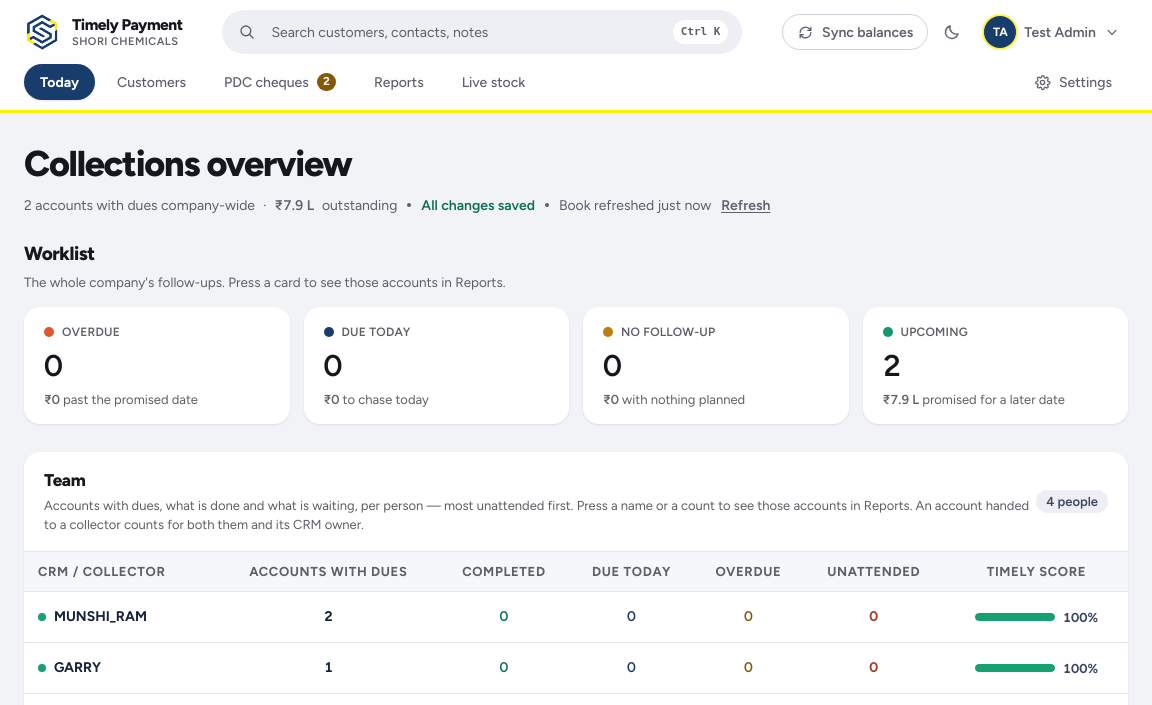
Test case: Sign out with the book loaded › shows the login screen at once, with no blank page and no render error
The width and height of the screenshot is (1152, 705).
Expected: the heading "Collections overview" is shown, [24, 142, 352, 185]
Note: the account menu, then Sign out
Click the button "TA Test Admin": (1054, 32) [980, 12, 1128, 52]
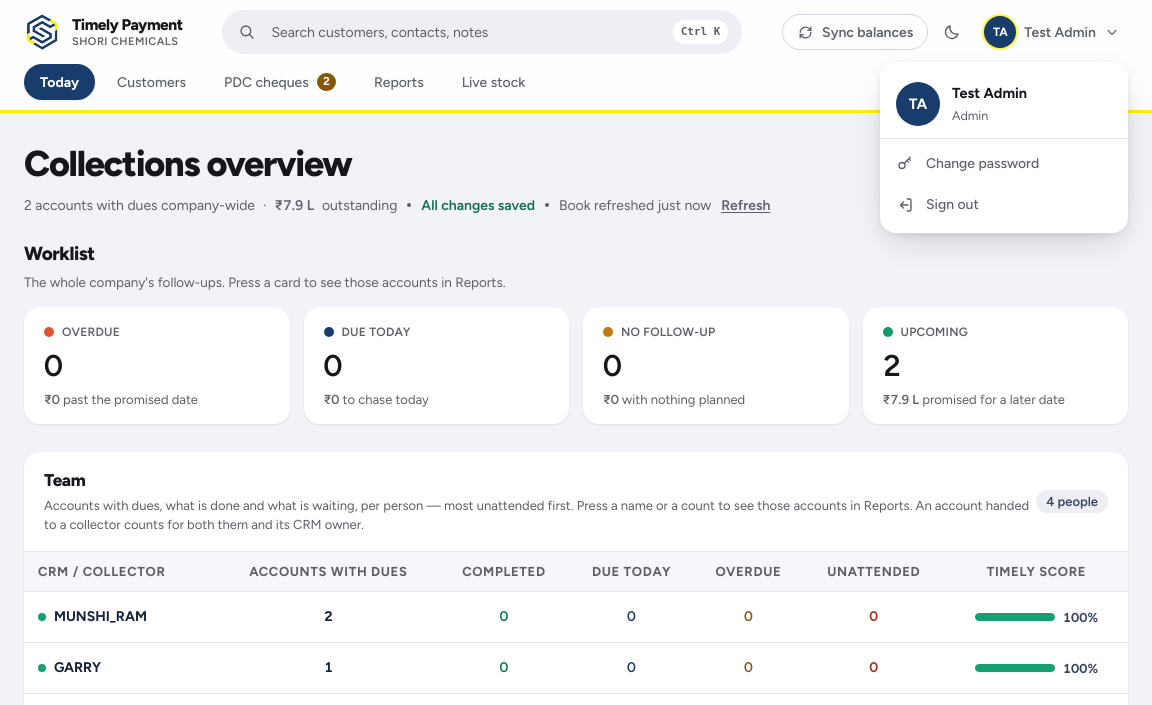
Click the menu item "Sign out": (1004, 204) [880, 184, 1128, 225]
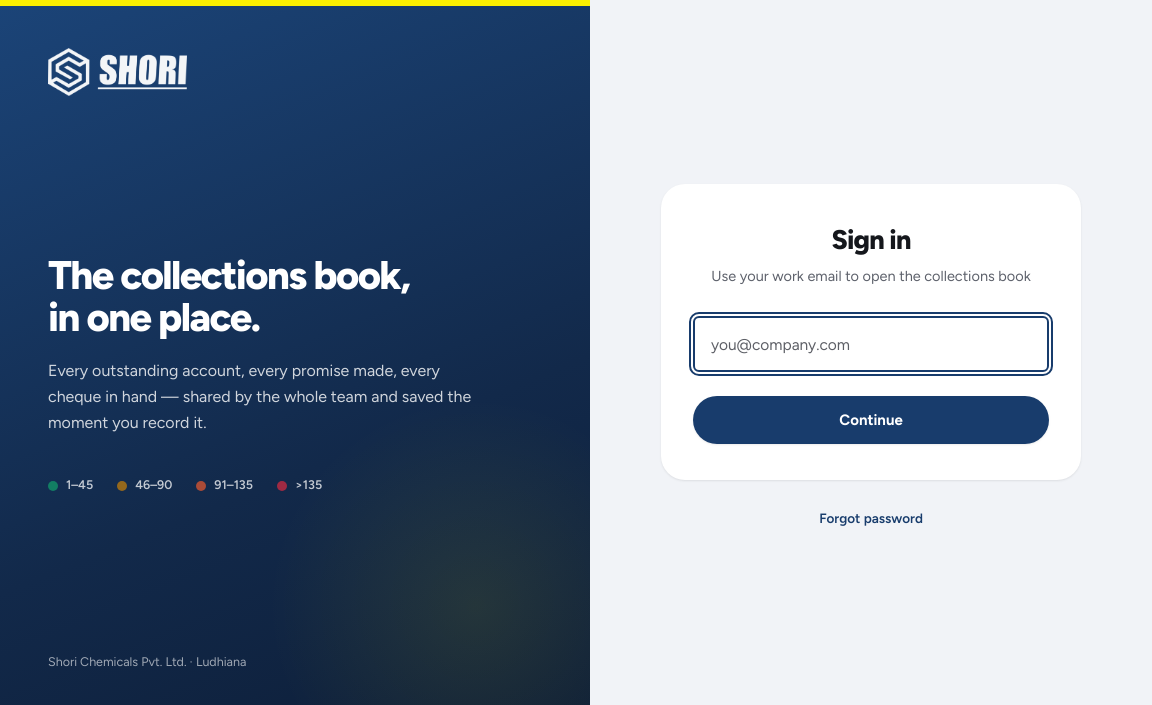
Expected: the field named "email" is shown, [693, 316, 1049, 372]
Expected: the text "Sign in" is shown, [831, 220, 911, 260]
